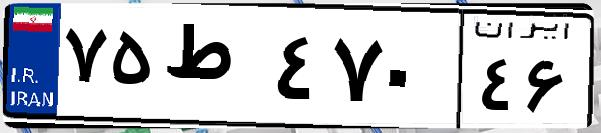0: (385, 28, 445, 110)
4: (270, 28, 330, 110), (475, 38, 525, 113)
5: (110, 28, 158, 98)
6: (525, 38, 570, 115)
7: (330, 28, 385, 110), (57, 26, 110, 100)
ط: (158, 20, 270, 120)
